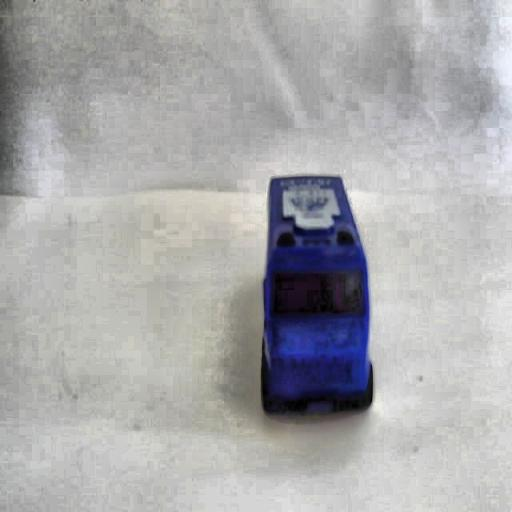police car: (258, 167, 380, 434)
